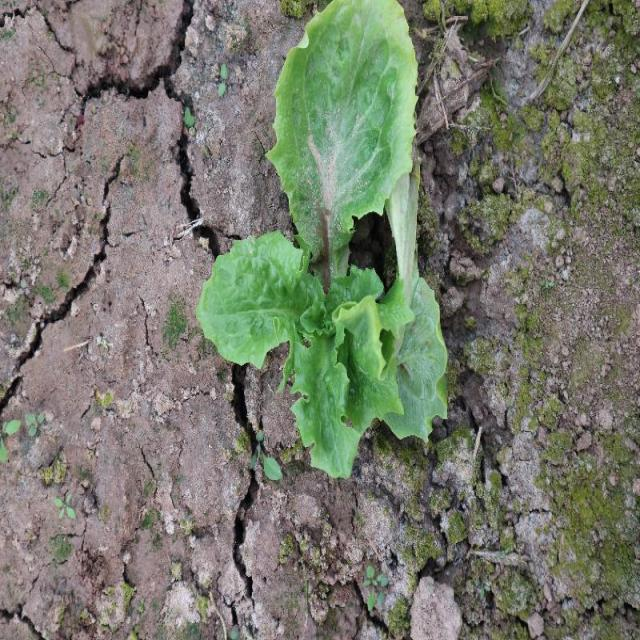crop: (198, 228, 452, 480)
